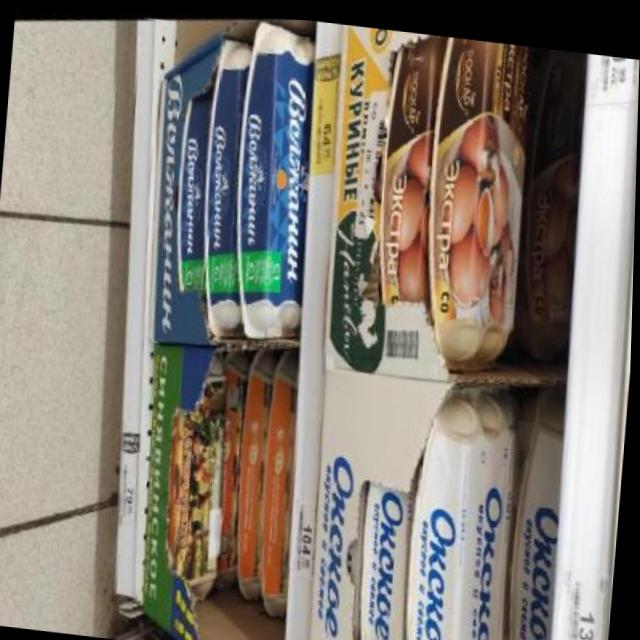Egg: (408, 28, 547, 375), (397, 379, 528, 640), (505, 37, 594, 361), (367, 23, 455, 305), (494, 379, 581, 640), (352, 472, 422, 640)
